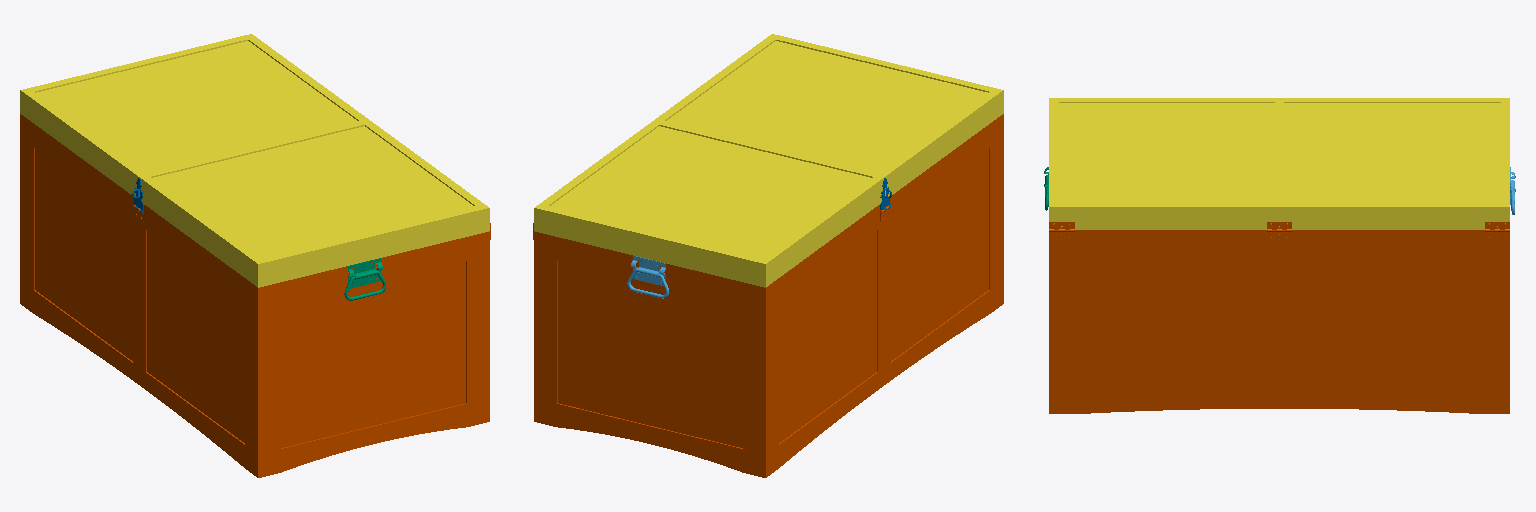
URDF robot description (partnet_c5aa72cca5cafd3f842982c980a38094):
<?xml version="1.0" ?>
<robot name="partnet_c5aa72cca5cafd3f842982c980a38094">
	<link name="base"/>
	<link name="link_0">
		<visual name="handle-12">
			<origin xyz="0.805685986002324 -0.26472815949389517 0"/>
			<geometry>
				<mesh filename="textured_objs/original-60.obj"/>
			</geometry>
		</visual>
		<collision>
			<origin xyz="0.805685986002324 -0.26472815949389517 0"/>
			<geometry>
				<mesh filename="textured_objs/original-60.obj"/>
			</geometry>
		</collision>
	</link>
	<joint name="joint_0" type="fixed">
		<origin xyz="-0.805685986002324 0.26472815949389517 0"/>
		<axis xyz="0 0 -1"/>
		<child link="link_0"/>
		<parent link="link_4"/>
		<limit lower="-0.0" upper="3.141592653589793"/>
	</joint>
	<link name="link_1">
		<visual name="handle-13">
			<origin xyz="-0.7863448306206458 -0.2759433104106115 0"/>
			<geometry>
				<mesh filename="textured_objs/original-61.obj"/>
			</geometry>
		</visual>
		<collision>
			<origin xyz="-0.7863448306206458 -0.2759433104106115 0"/>
			<geometry>
				<mesh filename="textured_objs/original-61.obj"/>
			</geometry>
		</collision>
	</link>
	<joint name="joint_1" type="fixed">
		<origin xyz="0.7863448306206458 0.2759433104106115 0"/>
		<axis xyz="0 0 1"/>
		<child link="link_1"/>
		<parent link="link_4"/>
		<limit lower="0.0" upper="3.141592653589793"/>
	</joint>
	<link name="link_2">
		<visual name="lid_surface-28">
			<origin xyz="0 -0.28946216478130826 0.460412724791655"/>
			<geometry>
				<mesh filename="textured_objs/original-15.obj"/>
			</geometry>
		</visual>
		<visual name="lid_surface-28">
			<origin xyz="0 -0.28946216478130826 0.460412724791655"/>
			<geometry>
				<mesh filename="textured_objs/original-10.obj"/>
			</geometry>
		</visual>
		<visual name="lid_surface-28">
			<origin xyz="0 -0.28946216478130826 0.460412724791655"/>
			<geometry>
				<mesh filename="textured_objs/original-33.obj"/>
			</geometry>
		</visual>
		<visual name="lid_surface-28">
			<origin xyz="0 -0.28946216478130826 0.460412724791655"/>
			<geometry>
				<mesh filename="textured_objs/original-32.obj"/>
			</geometry>
		</visual>
		<visual name="lid_surface-28">
			<origin xyz="0 -0.28946216478130826 0.460412724791655"/>
			<geometry>
				<mesh filename="textured_objs/original-18.obj"/>
			</geometry>
		</visual>
		<visual name="lid_surface-28">
			<origin xyz="0 -0.28946216478130826 0.460412724791655"/>
			<geometry>
				<mesh filename="textured_objs/original-12.obj"/>
			</geometry>
		</visual>
		<visual name="lid_surface-28">
			<origin xyz="0 -0.28946216478130826 0.460412724791655"/>
			<geometry>
				<mesh filename="textured_objs/original-11.obj"/>
			</geometry>
		</visual>
		<collision>
			<origin xyz="0 -0.28946216478130826 0.460412724791655"/>
			<geometry>
				<mesh filename="textured_objs/original-15.obj"/>
			</geometry>
		</collision>
		<collision>
			<origin xyz="0 -0.28946216478130826 0.460412724791655"/>
			<geometry>
				<mesh filename="textured_objs/original-10.obj"/>
			</geometry>
		</collision>
		<collision>
			<origin xyz="0 -0.28946216478130826 0.460412724791655"/>
			<geometry>
				<mesh filename="textured_objs/original-33.obj"/>
			</geometry>
		</collision>
		<collision>
			<origin xyz="0 -0.28946216478130826 0.460412724791655"/>
			<geometry>
				<mesh filename="textured_objs/original-32.obj"/>
			</geometry>
		</collision>
		<collision>
			<origin xyz="0 -0.28946216478130826 0.460412724791655"/>
			<geometry>
				<mesh filename="textured_objs/original-18.obj"/>
			</geometry>
		</collision>
		<collision>
			<origin xyz="0 -0.28946216478130826 0.460412724791655"/>
			<geometry>
				<mesh filename="textured_objs/original-12.obj"/>
			</geometry>
		</collision>
		<collision>
			<origin xyz="0 -0.28946216478130826 0.460412724791655"/>
			<geometry>
				<mesh filename="textured_objs/original-11.obj"/>
			</geometry>
		</collision>
	</link>
	<joint name="joint_2" type="revolute">
		<origin xyz="0 0.28946216478130826 -0.460412724791655"/>
		<axis xyz="-1 0 0"/>
		<child link="link_2"/>
		<parent link="link_4"/>
		<limit lower="-0.0" upper="3.141592653589793"/>
	</joint>
	<link name="link_3">
		<visual name="buckle-30">
			<origin xyz="0 -0.3679786514430732 -0.4514439143582351"/>
			<geometry>
				<mesh filename="textured_objs/original-59.obj"/>
			</geometry>
		</visual>
		<visual name="buckle-30">
			<origin xyz="0 -0.3679786514430732 -0.4514439143582351"/>
			<geometry>
				<mesh filename="textured_objs/original-57.obj"/>
			</geometry>
		</visual>
		<visual name="buckle-30">
			<origin xyz="0 -0.3679786514430732 -0.4514439143582351"/>
			<geometry>
				<mesh filename="textured_objs/original-56.obj"/>
			</geometry>
		</visual>
		<visual name="buckle-30">
			<origin xyz="0 -0.3679786514430732 -0.4514439143582351"/>
			<geometry>
				<mesh filename="textured_objs/original-58.obj"/>
			</geometry>
		</visual>
		<collision>
			<origin xyz="0 -0.3679786514430732 -0.4514439143582351"/>
			<geometry>
				<mesh filename="textured_objs/original-59.obj"/>
			</geometry>
		</collision>
		<collision>
			<origin xyz="0 -0.3679786514430732 -0.4514439143582351"/>
			<geometry>
				<mesh filename="textured_objs/original-57.obj"/>
			</geometry>
		</collision>
		<collision>
			<origin xyz="0 -0.3679786514430732 -0.4514439143582351"/>
			<geometry>
				<mesh filename="textured_objs/original-56.obj"/>
			</geometry>
		</collision>
		<collision>
			<origin xyz="0 -0.3679786514430732 -0.4514439143582351"/>
			<geometry>
				<mesh filename="textured_objs/original-58.obj"/>
			</geometry>
		</collision>
	</link>
	<joint name="joint_3" type="fixed">
		<origin xyz="0 0.07851648666176492 0.9118566391498901"/>
		<axis xyz="-1 0 0"/>
		<child link="link_3"/>
		<parent link="link_2"/>
		<limit lower="-0.0" upper="1.7781414419318229"/>
	</joint>
	<link name="link_4">
		<visual name="chest_box-10">
			<origin xyz="0 0 0"/>
			<geometry>
				<mesh filename="textured_objs/original-45.obj"/>
			</geometry>
		</visual>
		<visual name="chest_box-10">
			<origin xyz="0 0 0"/>
			<geometry>
				<mesh filename="textured_objs/original-42.obj"/>
			</geometry>
		</visual>
		<visual name="chest_box-10">
			<origin xyz="0 0 0"/>
			<geometry>
				<mesh filename="textured_objs/original-16.obj"/>
			</geometry>
		</visual>
		<visual name="chest_box-10">
			<origin xyz="0 0 0"/>
			<geometry>
				<mesh filename="textured_objs/original-1.obj"/>
			</geometry>
		</visual>
		<visual name="chest_box-10">
			<origin xyz="0 0 0"/>
			<geometry>
				<mesh filename="textured_objs/original-41.obj"/>
			</geometry>
		</visual>
		<visual name="chest_box-10">
			<origin xyz="0 0 0"/>
			<geometry>
				<mesh filename="textured_objs/original-49.obj"/>
			</geometry>
		</visual>
		<visual name="chest_box-10">
			<origin xyz="0 0 0"/>
			<geometry>
				<mesh filename="textured_objs/original-3.obj"/>
			</geometry>
		</visual>
		<visual name="chest_box-10">
			<origin xyz="0 0 0"/>
			<geometry>
				<mesh filename="textured_objs/original-48.obj"/>
			</geometry>
		</visual>
		<visual name="chest_box-10">
			<origin xyz="0 0 0"/>
			<geometry>
				<mesh filename="textured_objs/original-5.obj"/>
			</geometry>
		</visual>
		<visual name="chest_box-10">
			<origin xyz="0 0 0"/>
			<geometry>
				<mesh filename="textured_objs/original-19.obj"/>
			</geometry>
		</visual>
		<visual name="chest_box-10">
			<origin xyz="0 0 0"/>
			<geometry>
				<mesh filename="textured_objs/original-2.obj"/>
			</geometry>
		</visual>
		<visual name="chest_box-10">
			<origin xyz="0 0 0"/>
			<geometry>
				<mesh filename="textured_objs/original-13.obj"/>
			</geometry>
		</visual>
		<visual name="chest_box-10">
			<origin xyz="0 0 0"/>
			<geometry>
				<mesh filename="textured_objs/original-39.obj"/>
			</geometry>
		</visual>
		<visual name="chest_box-10">
			<origin xyz="0 0 0"/>
			<geometry>
				<mesh filename="textured_objs/original-4.obj"/>
			</geometry>
		</visual>
		<visual name="chest_box-10">
			<origin xyz="0 0 0"/>
			<geometry>
				<mesh filename="textured_objs/original-47.obj"/>
			</geometry>
		</visual>
		<visual name="chest_box-10">
			<origin xyz="0 0 0"/>
			<geometry>
				<mesh filename="textured_objs/original-7.obj"/>
			</geometry>
		</visual>
		<visual name="chest_box-10">
			<origin xyz="0 0 0"/>
			<geometry>
				<mesh filename="textured_objs/original-8.obj"/>
			</geometry>
		</visual>
		<visual name="chest_box-10">
			<origin xyz="0 0 0"/>
			<geometry>
				<mesh filename="textured_objs/original-51.obj"/>
			</geometry>
		</visual>
		<visual name="chest_box-10">
			<origin xyz="0 0 0"/>
			<geometry>
				<mesh filename="textured_objs/original-50.obj"/>
			</geometry>
		</visual>
		<visual name="chest_box-10">
			<origin xyz="0 0 0"/>
			<geometry>
				<mesh filename="textured_objs/original-44.obj"/>
			</geometry>
		</visual>
		<visual name="chest_box-10">
			<origin xyz="0 0 0"/>
			<geometry>
				<mesh filename="textured_objs/original-14.obj"/>
			</geometry>
		</visual>
		<visual name="chest_box-10">
			<origin xyz="0 0 0"/>
			<geometry>
				<mesh filename="textured_objs/original-43.obj"/>
			</geometry>
		</visual>
		<visual name="chest_box-10">
			<origin xyz="0 0 0"/>
			<geometry>
				<mesh filename="textured_objs/original-17.obj"/>
			</geometry>
		</visual>
		<visual name="chest_box-10">
			<origin xyz="0 0 0"/>
			<geometry>
				<mesh filename="textured_objs/original-40.obj"/>
			</geometry>
		</visual>
		<visual name="chest_box-10">
			<origin xyz="0 0 0"/>
			<geometry>
				<mesh filename="textured_objs/original-46.obj"/>
			</geometry>
		</visual>
		<visual name="chest_box-10">
			<origin xyz="0 0 0"/>
			<geometry>
				<mesh filename="textured_objs/original-6.obj"/>
			</geometry>
		</visual>
		<visual name="chest_box-10">
			<origin xyz="0 0 0"/>
			<geometry>
				<mesh filename="textured_objs/original-9.obj"/>
			</geometry>
		</visual>
		<visual name="other_leaf-21">
			<origin xyz="0 0 0"/>
			<geometry>
				<mesh filename="textured_objs/original-25.obj"/>
			</geometry>
		</visual>
		<visual name="other_leaf-21">
			<origin xyz="0 0 0"/>
			<geometry>
				<mesh filename="textured_objs/original-26.obj"/>
			</geometry>
		</visual>
		<visual name="other_leaf-21">
			<origin xyz="0 0 0"/>
			<geometry>
				<mesh filename="textured_objs/original-27.obj"/>
			</geometry>
		</visual>
		<visual name="other_leaf-20">
			<origin xyz="0 0 0"/>
			<geometry>
				<mesh filename="textured_objs/original-30.obj"/>
			</geometry>
		</visual>
		<visual name="other_leaf-20">
			<origin xyz="0 0 0"/>
			<geometry>
				<mesh filename="textured_objs/original-29.obj"/>
			</geometry>
		</visual>
		<visual name="other_leaf-20">
			<origin xyz="0 0 0"/>
			<geometry>
				<mesh filename="textured_objs/original-31.obj"/>
			</geometry>
		</visual>
		<visual name="other_leaf-19">
			<origin xyz="0 0 0"/>
			<geometry>
				<mesh filename="textured_objs/original-22.obj"/>
			</geometry>
		</visual>
		<visual name="other_leaf-19">
			<origin xyz="0 0 0"/>
			<geometry>
				<mesh filename="textured_objs/original-21.obj"/>
			</geometry>
		</visual>
		<visual name="other_leaf-19">
			<origin xyz="0 0 0"/>
			<geometry>
				<mesh filename="textured_objs/original-23.obj"/>
			</geometry>
		</visual>
		<visual name="hinge-29">
			<origin xyz="0 0 0"/>
			<geometry>
				<mesh filename="textured_objs/original-53.obj"/>
			</geometry>
		</visual>
		<visual name="hinge-29">
			<origin xyz="0 0 0"/>
			<geometry>
				<mesh filename="textured_objs/original-54.obj"/>
			</geometry>
		</visual>
		<visual name="base_side_panel-23">
			<origin xyz="0 0 0"/>
			<geometry>
				<mesh filename="textured_objs/original-34.obj"/>
			</geometry>
		</visual>
		<visual name="base_side_panel-24">
			<origin xyz="0 0 0"/>
			<geometry>
				<mesh filename="textured_objs/original-35.obj"/>
			</geometry>
		</visual>
		<visual name="base_side_panel-25">
			<origin xyz="0 0 0"/>
			<geometry>
				<mesh filename="textured_objs/original-36.obj"/>
			</geometry>
		</visual>
		<visual name="base_side_panel-26">
			<origin xyz="0 0 0"/>
			<geometry>
				<mesh filename="textured_objs/original-38.obj"/>
			</geometry>
		</visual>
		<visual name="base_side_panel-27">
			<origin xyz="0 0 0"/>
			<geometry>
				<mesh filename="textured_objs/original-37.obj"/>
			</geometry>
		</visual>
		<collision>
			<origin xyz="0 0 0"/>
			<geometry>
				<mesh filename="textured_objs/original-45.obj"/>
			</geometry>
		</collision>
		<collision>
			<origin xyz="0 0 0"/>
			<geometry>
				<mesh filename="textured_objs/original-42.obj"/>
			</geometry>
		</collision>
		<collision>
			<origin xyz="0 0 0"/>
			<geometry>
				<mesh filename="textured_objs/original-16.obj"/>
			</geometry>
		</collision>
		<collision>
			<origin xyz="0 0 0"/>
			<geometry>
				<mesh filename="textured_objs/original-1.obj"/>
			</geometry>
		</collision>
		<collision>
			<origin xyz="0 0 0"/>
			<geometry>
				<mesh filename="textured_objs/original-41.obj"/>
			</geometry>
		</collision>
		<collision>
			<origin xyz="0 0 0"/>
			<geometry>
				<mesh filename="textured_objs/original-49.obj"/>
			</geometry>
		</collision>
		<collision>
			<origin xyz="0 0 0"/>
			<geometry>
				<mesh filename="textured_objs/original-3.obj"/>
			</geometry>
		</collision>
		<collision>
			<origin xyz="0 0 0"/>
			<geometry>
				<mesh filename="textured_objs/original-48.obj"/>
			</geometry>
		</collision>
		<collision>
			<origin xyz="0 0 0"/>
			<geometry>
				<mesh filename="textured_objs/original-5.obj"/>
			</geometry>
		</collision>
		<collision>
			<origin xyz="0 0 0"/>
			<geometry>
				<mesh filename="textured_objs/original-19.obj"/>
			</geometry>
		</collision>
		<collision>
			<origin xyz="0 0 0"/>
			<geometry>
				<mesh filename="textured_objs/original-2.obj"/>
			</geometry>
		</collision>
		<collision>
			<origin xyz="0 0 0"/>
			<geometry>
				<mesh filename="textured_objs/original-13.obj"/>
			</geometry>
		</collision>
		<collision>
			<origin xyz="0 0 0"/>
			<geometry>
				<mesh filename="textured_objs/original-39.obj"/>
			</geometry>
		</collision>
		<collision>
			<origin xyz="0 0 0"/>
			<geometry>
				<mesh filename="textured_objs/original-4.obj"/>
			</geometry>
		</collision>
		<collision>
			<origin xyz="0 0 0"/>
			<geometry>
				<mesh filename="textured_objs/original-47.obj"/>
			</geometry>
		</collision>
		<collision>
			<origin xyz="0 0 0"/>
			<geometry>
				<mesh filename="textured_objs/original-7.obj"/>
			</geometry>
		</collision>
		<collision>
			<origin xyz="0 0 0"/>
			<geometry>
				<mesh filename="textured_objs/original-8.obj"/>
			</geometry>
		</collision>
		<collision>
			<origin xyz="0 0 0"/>
			<geometry>
				<mesh filename="textured_objs/original-51.obj"/>
			</geometry>
		</collision>
		<collision>
			<origin xyz="0 0 0"/>
			<geometry>
				<mesh filename="textured_objs/original-50.obj"/>
			</geometry>
		</collision>
		<collision>
			<origin xyz="0 0 0"/>
			<geometry>
				<mesh filename="textured_objs/original-44.obj"/>
			</geometry>
		</collision>
		<collision>
			<origin xyz="0 0 0"/>
			<geometry>
				<mesh filename="textured_objs/original-14.obj"/>
			</geometry>
		</collision>
		<collision>
			<origin xyz="0 0 0"/>
			<geometry>
				<mesh filename="textured_objs/original-43.obj"/>
			</geometry>
		</collision>
		<collision>
			<origin xyz="0 0 0"/>
			<geometry>
				<mesh filename="textured_objs/original-17.obj"/>
			</geometry>
		</collision>
		<collision>
			<origin xyz="0 0 0"/>
			<geometry>
				<mesh filename="textured_objs/original-40.obj"/>
			</geometry>
		</collision>
		<collision>
			<origin xyz="0 0 0"/>
			<geometry>
				<mesh filename="textured_objs/original-46.obj"/>
			</geometry>
		</collision>
		<collision>
			<origin xyz="0 0 0"/>
			<geometry>
				<mesh filename="textured_objs/original-6.obj"/>
			</geometry>
		</collision>
		<collision>
			<origin xyz="0 0 0"/>
			<geometry>
				<mesh filename="textured_objs/original-9.obj"/>
			</geometry>
		</collision>
		<collision>
			<origin xyz="0 0 0"/>
			<geometry>
				<mesh filename="textured_objs/original-25.obj"/>
			</geometry>
		</collision>
		<collision>
			<origin xyz="0 0 0"/>
			<geometry>
				<mesh filename="textured_objs/original-26.obj"/>
			</geometry>
		</collision>
		<collision>
			<origin xyz="0 0 0"/>
			<geometry>
				<mesh filename="textured_objs/original-27.obj"/>
			</geometry>
		</collision>
		<collision>
			<origin xyz="0 0 0"/>
			<geometry>
				<mesh filename="textured_objs/original-30.obj"/>
			</geometry>
		</collision>
		<collision>
			<origin xyz="0 0 0"/>
			<geometry>
				<mesh filename="textured_objs/original-29.obj"/>
			</geometry>
		</collision>
		<collision>
			<origin xyz="0 0 0"/>
			<geometry>
				<mesh filename="textured_objs/original-31.obj"/>
			</geometry>
		</collision>
		<collision>
			<origin xyz="0 0 0"/>
			<geometry>
				<mesh filename="textured_objs/original-22.obj"/>
			</geometry>
		</collision>
		<collision>
			<origin xyz="0 0 0"/>
			<geometry>
				<mesh filename="textured_objs/original-21.obj"/>
			</geometry>
		</collision>
		<collision>
			<origin xyz="0 0 0"/>
			<geometry>
				<mesh filename="textured_objs/original-23.obj"/>
			</geometry>
		</collision>
		<collision>
			<origin xyz="0 0 0"/>
			<geometry>
				<mesh filename="textured_objs/original-53.obj"/>
			</geometry>
		</collision>
		<collision>
			<origin xyz="0 0 0"/>
			<geometry>
				<mesh filename="textured_objs/original-54.obj"/>
			</geometry>
		</collision>
		<collision>
			<origin xyz="0 0 0"/>
			<geometry>
				<mesh filename="textured_objs/original-34.obj"/>
			</geometry>
		</collision>
		<collision>
			<origin xyz="0 0 0"/>
			<geometry>
				<mesh filename="textured_objs/original-35.obj"/>
			</geometry>
		</collision>
		<collision>
			<origin xyz="0 0 0"/>
			<geometry>
				<mesh filename="textured_objs/original-36.obj"/>
			</geometry>
		</collision>
		<collision>
			<origin xyz="0 0 0"/>
			<geometry>
				<mesh filename="textured_objs/original-38.obj"/>
			</geometry>
		</collision>
		<collision>
			<origin xyz="0 0 0"/>
			<geometry>
				<mesh filename="textured_objs/original-37.obj"/>
			</geometry>
		</collision>
	</link>
	<joint name="joint_4" type="fixed">
		<origin rpy="1.570796326794897 0 -1.570796326794897" xyz="0 0 0"/>
		<child link="link_4"/>
		<parent link="base"/>
	</joint>
</robot>

--- What the picture shows (computed from the rendered views, not written in the file) ---
The picture shows the robot from 3 angles, left to right: view 1: azimuth 30°, elevation 25°; view 2: azimuth 150°, elevation 25°; view 3: azimuth 270°, elevation 25°; orthographic projection.
Robot: partnet_c5aa72cca5cafd3f842982c980a38094 — 6 links, 5 joints (1 revolute, 4 fixed); root link base; default pose: every joint at zero.
Links seen in each view (by area): view 1: link_4, link_2, link_1; view 2: link_4, link_2, link_0; view 3: link_4, link_2.
Link boxes in pixels (bbox=[...]): link_4: bbox=[20, 114, 490, 477]; link_2: bbox=[20, 34, 489, 287]; link_1: bbox=[344, 258, 385, 300]; link_4: bbox=[533, 114, 1003, 477]; link_2: bbox=[534, 34, 1003, 287]; link_0: bbox=[627, 256, 668, 298]; link_4: bbox=[1049, 222, 1509, 413]; link_2: bbox=[1049, 98, 1509, 229].
Size in the robot's own frame: 0.931 by 1.63 by 0.792 metres.
56 mesh visuals loaded from 56 distinct referenced files (56 OBJ).
